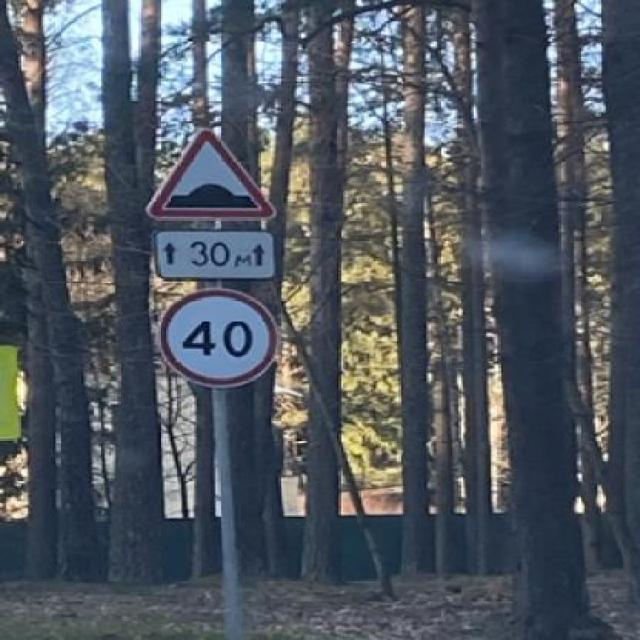forb_speed_over_40: (161, 286, 276, 388)
